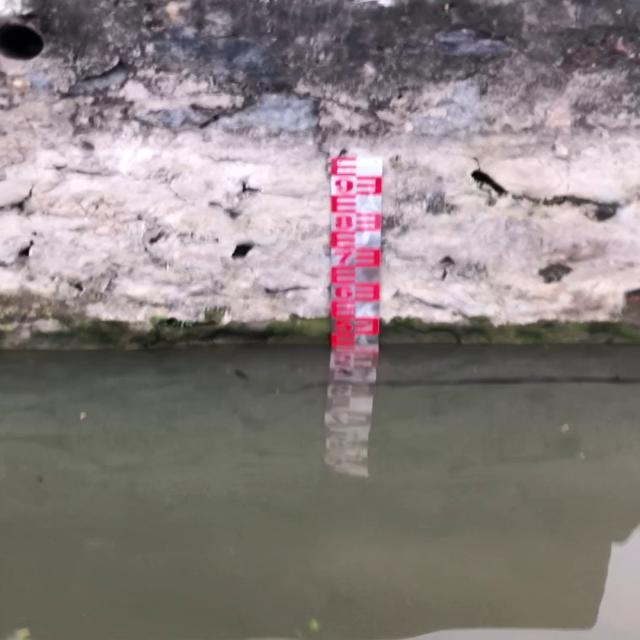ruler: (326, 153, 387, 344)
value: (331, 175, 357, 195), (330, 212, 356, 232), (332, 282, 355, 302), (331, 247, 355, 266), (331, 316, 354, 334)
